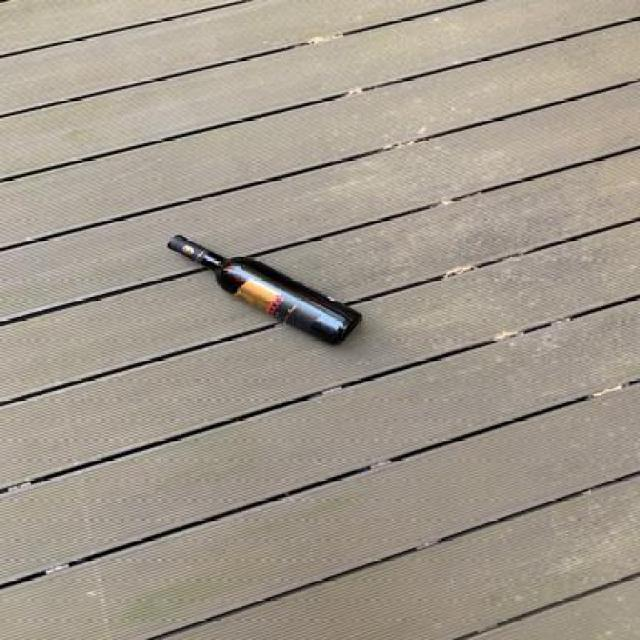trash: (162, 229, 370, 349)
